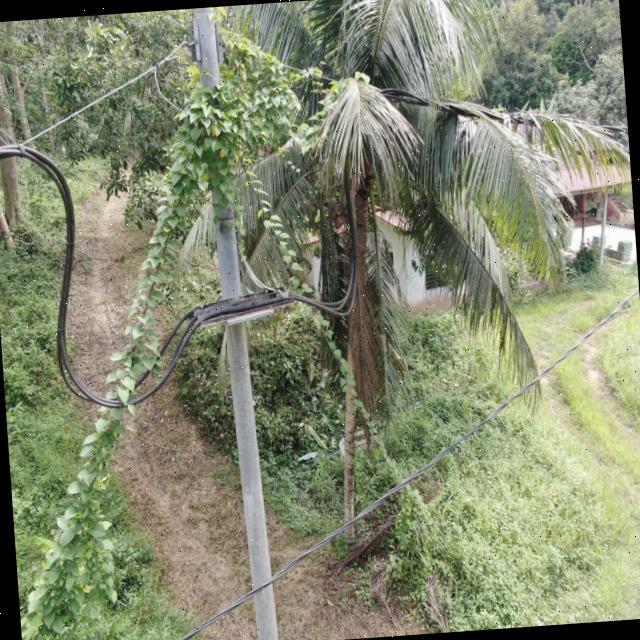critical vegetation: (0, 53, 280, 640), (254, 164, 440, 550)
